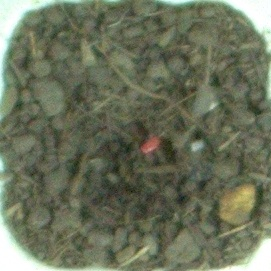chilli seed: (138, 133, 162, 153)
